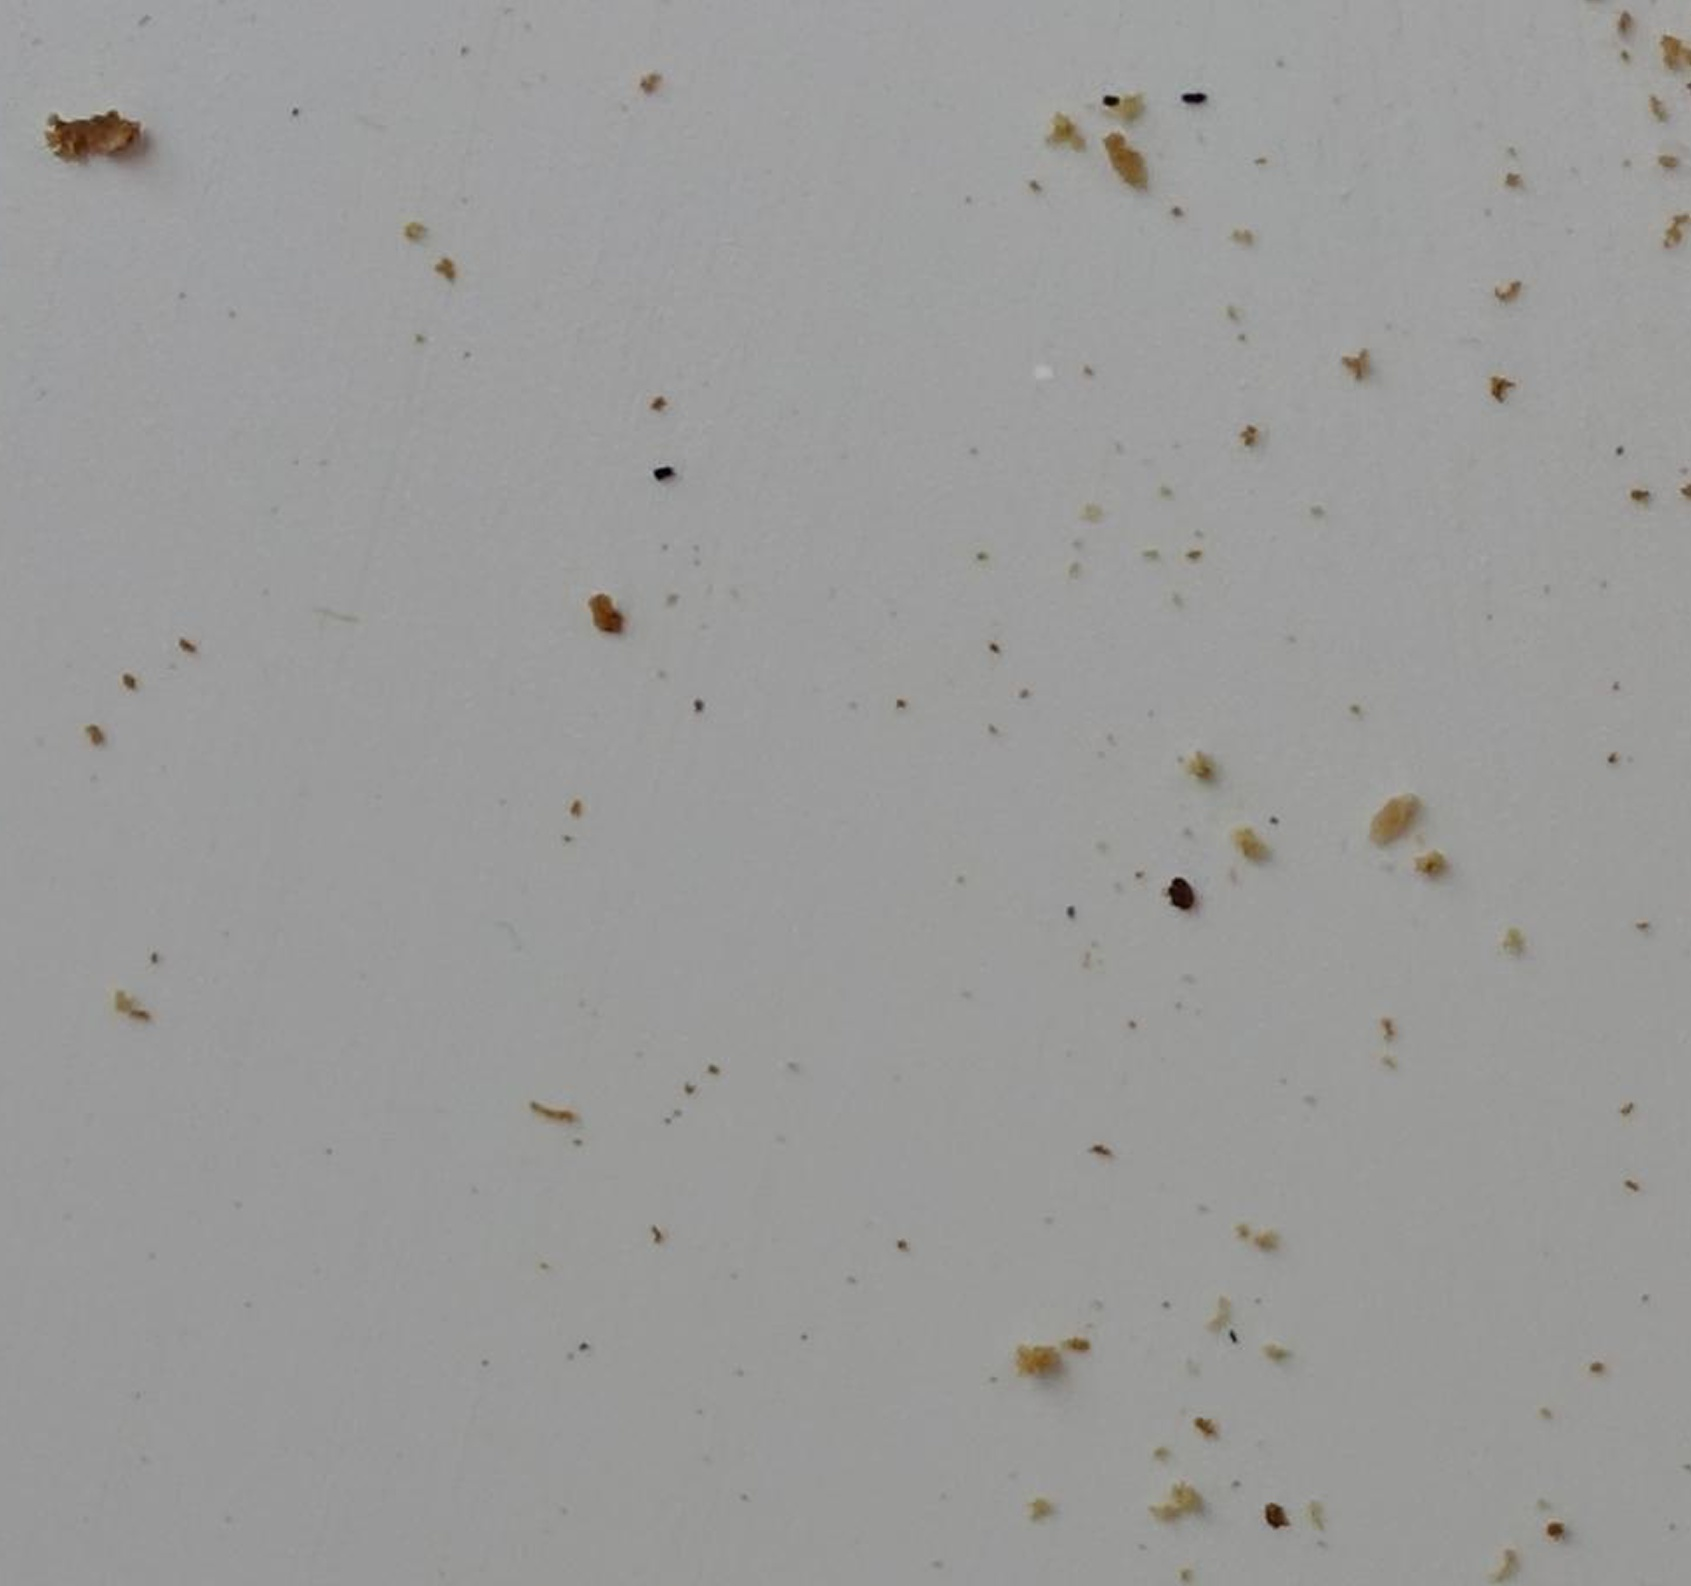Varroa: (1171, 888, 1194, 915)
